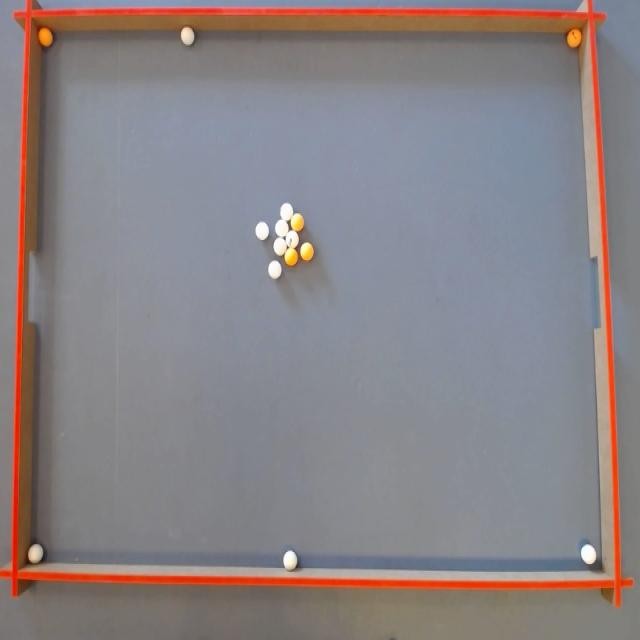orange_ball: (566, 28, 582, 48), (38, 27, 53, 47), (300, 242, 314, 260), (284, 248, 298, 266), (291, 213, 304, 231)
white_ball: (28, 544, 44, 564), (580, 544, 596, 564), (283, 550, 297, 570), (275, 219, 289, 238), (255, 222, 269, 240), (280, 202, 294, 220), (181, 27, 194, 46), (268, 260, 281, 278), (286, 230, 298, 248), (274, 238, 286, 255)
